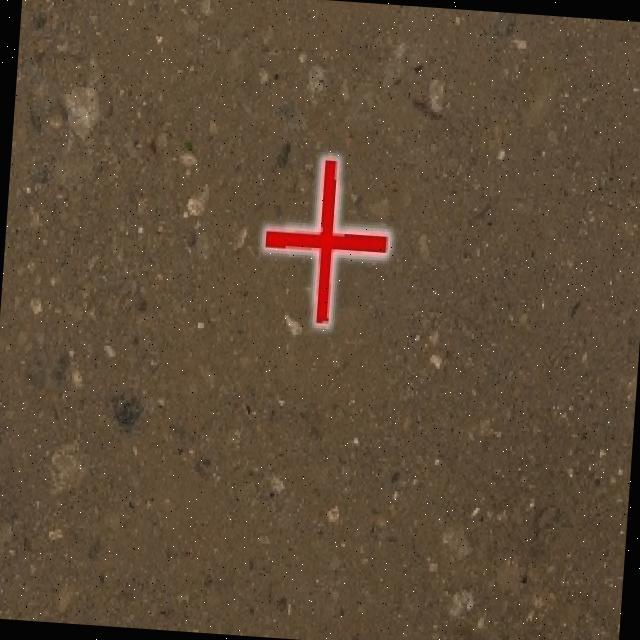x_marker: (259, 154, 392, 326)
